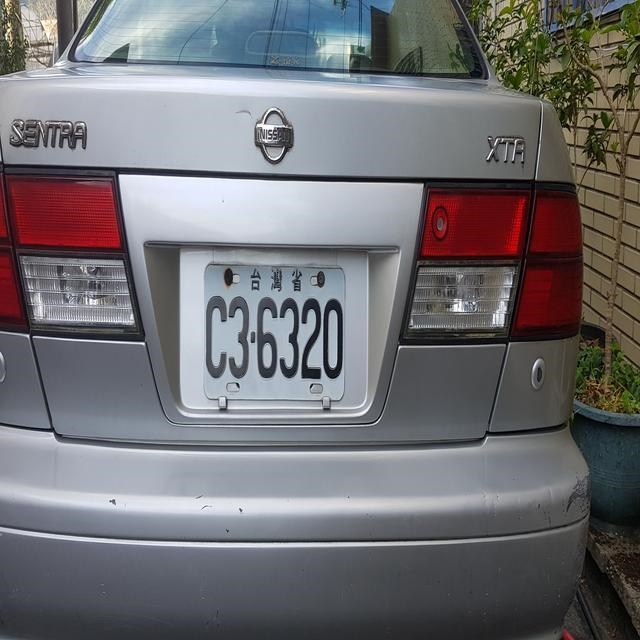license: (204, 265, 346, 400)
